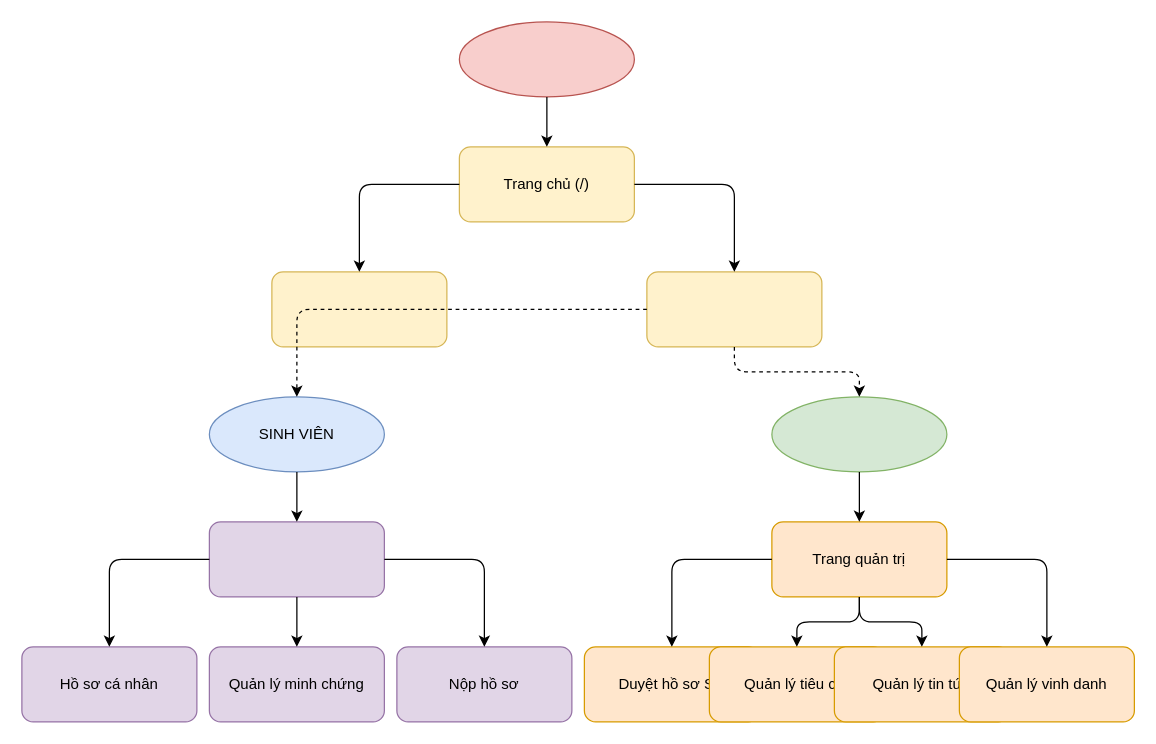
Image size: 1156x744. Some labels were removed from this diagram. The centre of each missing label's shape, as x and y in pixels:
"Bảng điều khiển SV" goes at pixel 296 559.
"Chi tiết bài viết" goes at pixel 359 309.
"KHÁCH" goes at pixel 546 59.
"QUẢN TRỊ VIÊN" goes at pixel 859 434.
"Đăng nhập (/login)" goes at pixel 734 309.
